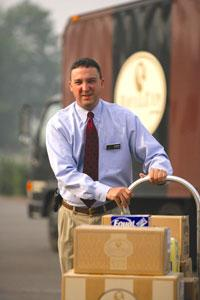person: (45, 55, 173, 300)
